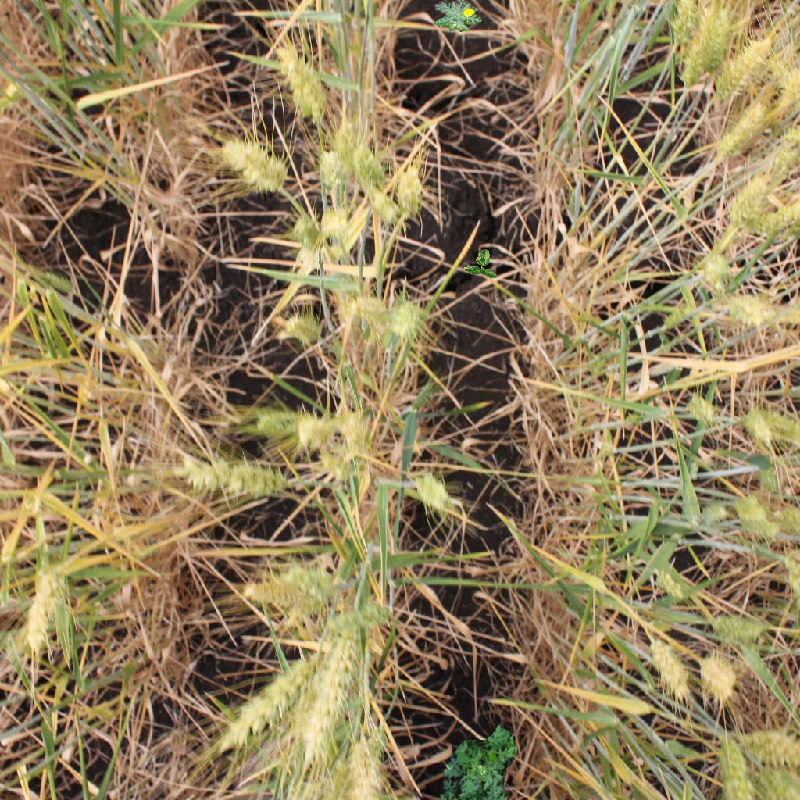spikelet: (298, 613, 363, 759), (221, 655, 316, 746), (176, 451, 290, 504), (13, 558, 70, 657), (678, 1, 734, 88), (276, 45, 331, 124), (241, 560, 325, 611), (320, 410, 375, 484), (713, 34, 774, 100), (219, 136, 288, 194), (348, 138, 396, 219), (712, 98, 772, 161), (342, 722, 389, 799), (715, 730, 760, 800), (724, 171, 775, 231), (646, 637, 693, 701), (738, 726, 800, 769), (722, 288, 781, 333), (409, 467, 458, 517), (274, 304, 325, 350), (689, 244, 737, 291), (338, 290, 389, 334), (731, 491, 777, 539), (698, 651, 740, 703), (390, 162, 427, 221), (710, 610, 768, 646), (684, 391, 729, 434), (386, 296, 427, 343), (756, 407, 800, 450), (291, 409, 334, 451), (761, 196, 799, 243), (252, 403, 299, 439), (432, 1, 481, 34), (666, 1, 701, 47), (690, 497, 733, 534), (316, 146, 349, 194), (741, 405, 775, 447), (1, 58, 27, 110), (769, 503, 800, 542)
weed: (431, 711, 531, 800), (459, 248, 499, 288), (434, 1, 482, 32)
